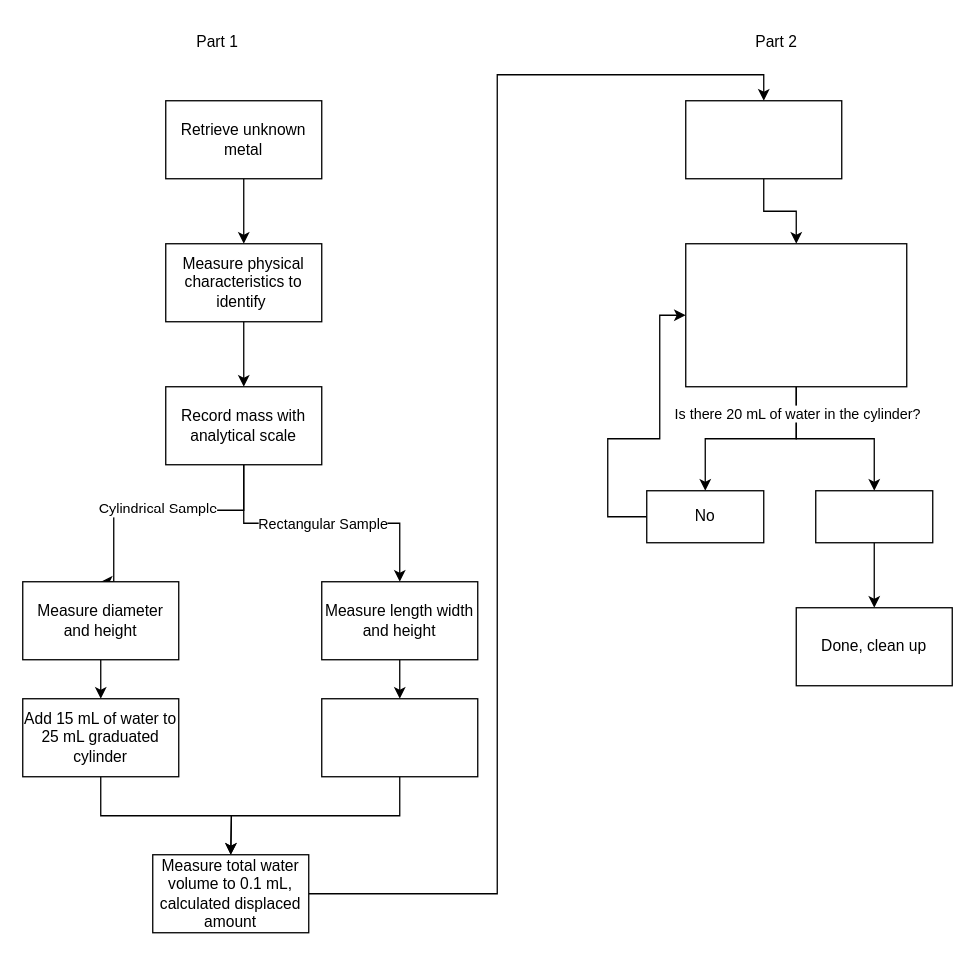
Some shapes in this 975 by 955 pixel diagram are drawn without their labels. Here are the shapes that lost their labels. From the top down, the centre of each, then its label:
At point 763,139: "Mass the 25mL graduated cylinder".
At point 795,314: "Add 5 mL water to the graduated cylinder, mass to nearest 0.0001g and record it".
At point 873,516: "Yes".
At point 399,737: "Add 35 mL of water to the 50 mL graduated cylinder".
